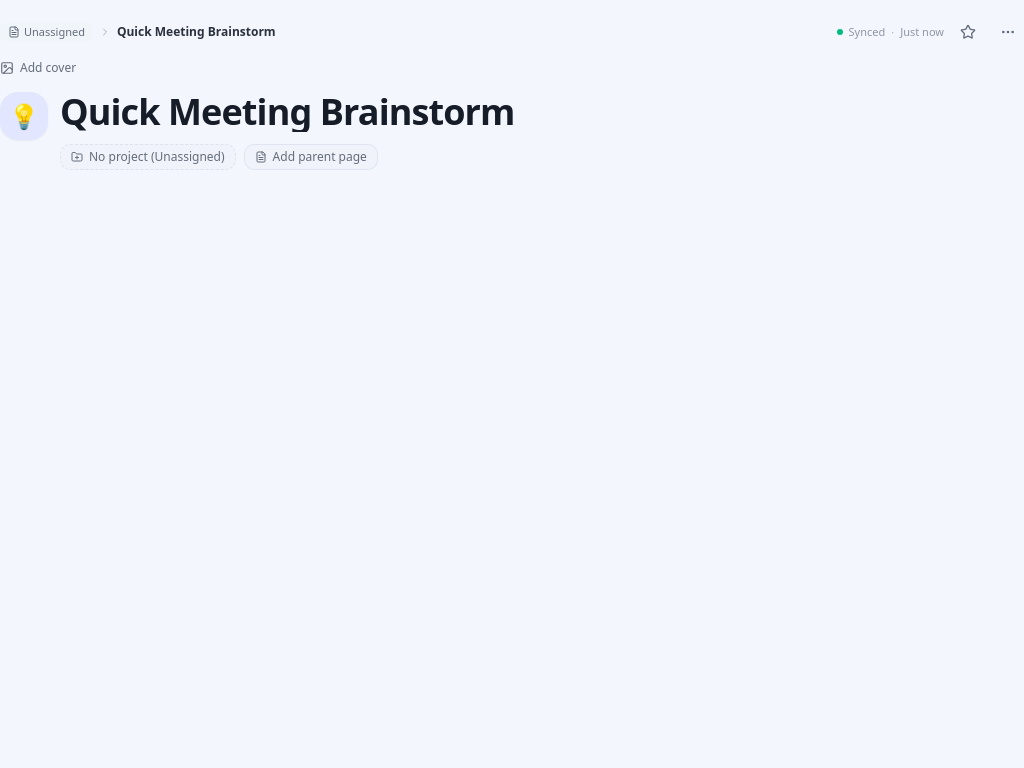
Test: MindDesk Notes & Projects UX › handles empty projects gracefully
Click the button with aria-label "Project assignment" at (148, 157), box [60,144,236,170]
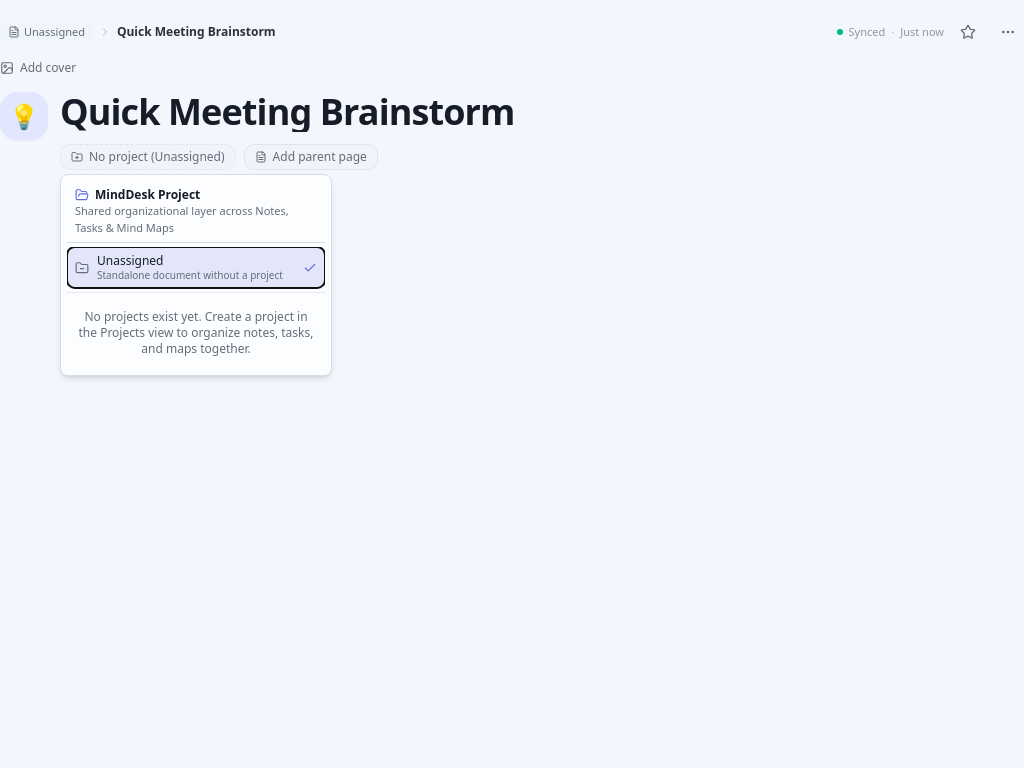
Result: the text "No projects exist yet" is shown at [78,308,314,357]
